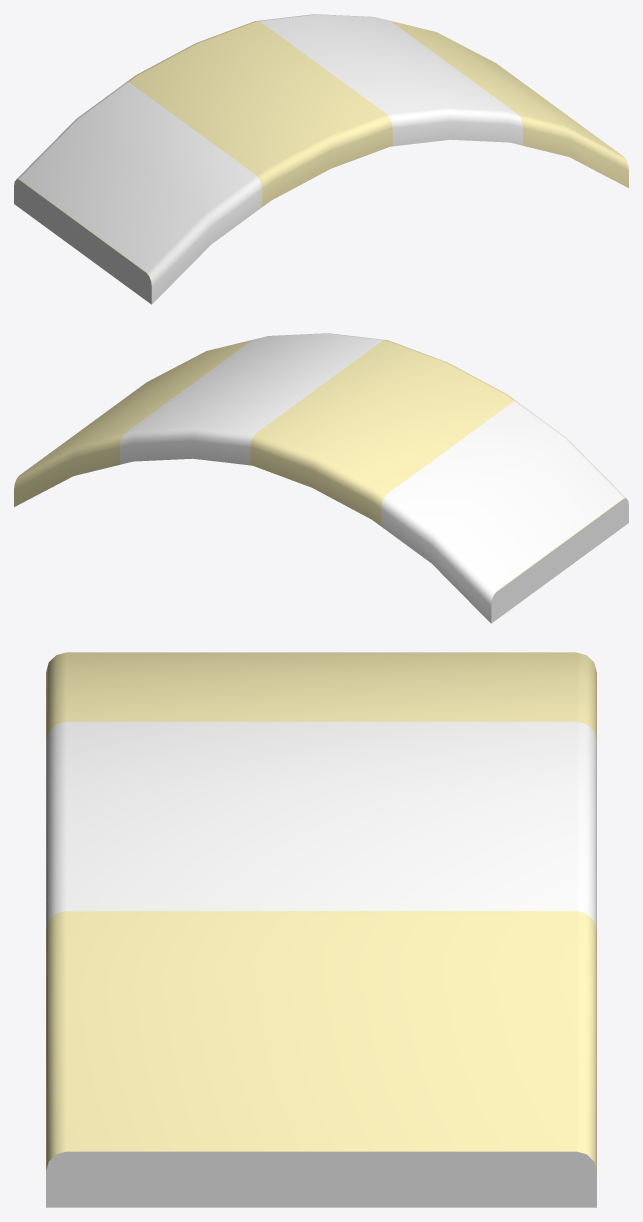
The model's file is RoadUp_yellow.fbx.
3 views of the same model, one above another, from view 1: azimuth 30°, elevation 25°; view 2: azimuth 150°, elevation 25°; view 3: azimuth 270°, elevation 25° (orthographic). The views are drawn at different scales.
Visible parts, largest first — view 1: RoadUp_yellow; view 2: RoadUp_yellow; view 3: RoadUp_yellow.
Part boxes in pixels (x1=…): RoadUp_yellow: x1=14, y1=14, x2=628, y2=304; RoadUp_yellow: x1=14, y1=333, x2=628, y2=623; RoadUp_yellow: x1=46, y1=652, x2=596, y2=1207.
Bounding box in the file's own units: 600 × 154 × 300.
Materials: 1 (1 with a texture image).
